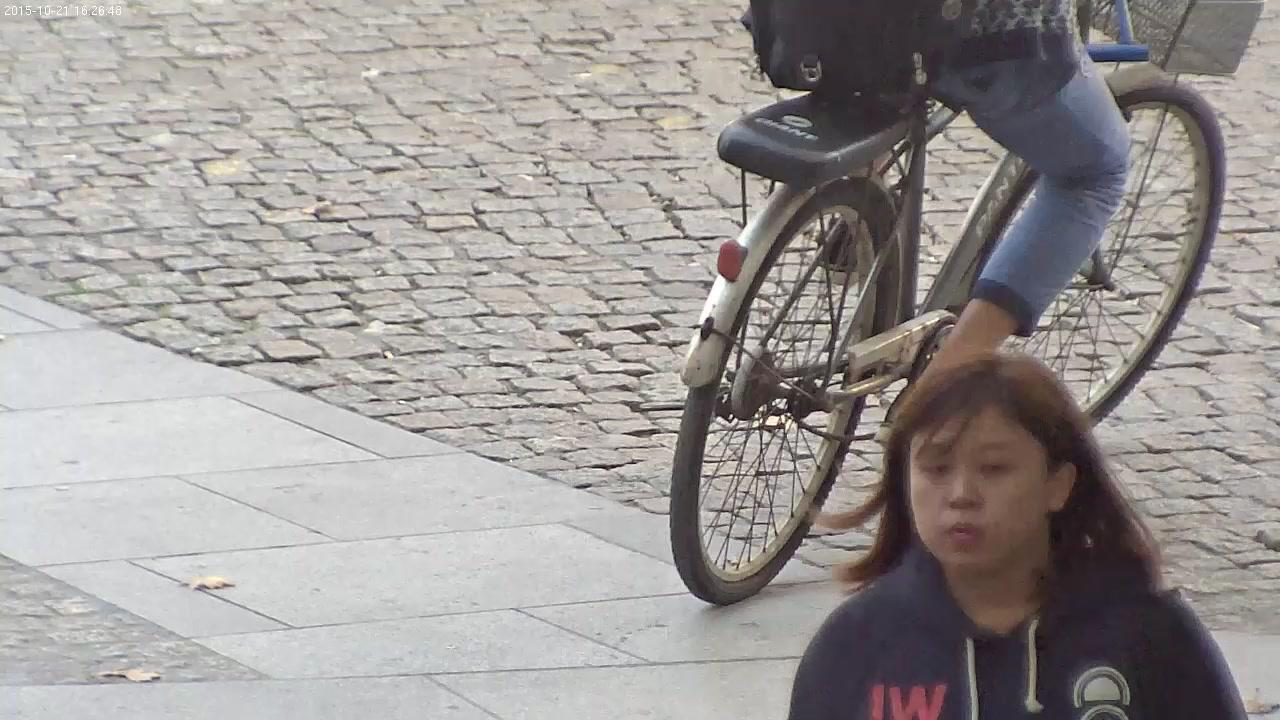face: (910, 410, 1045, 566)
